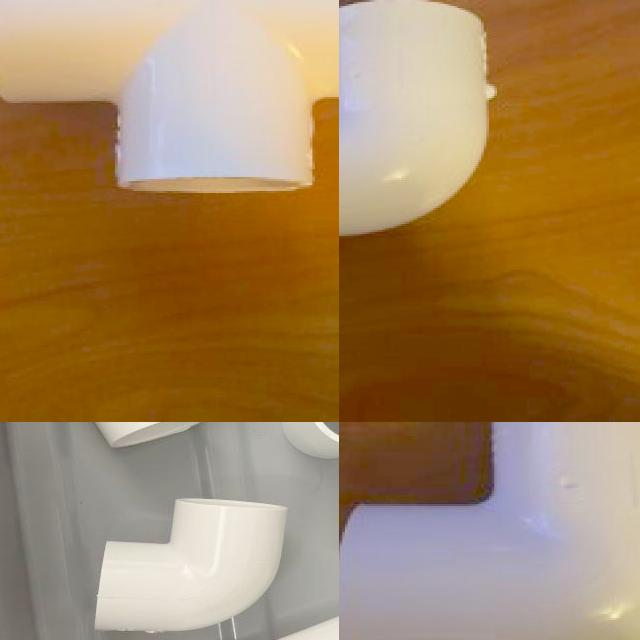L Joint: (339, 422, 640, 640), (339, 0, 497, 240), (93, 498, 290, 636)
